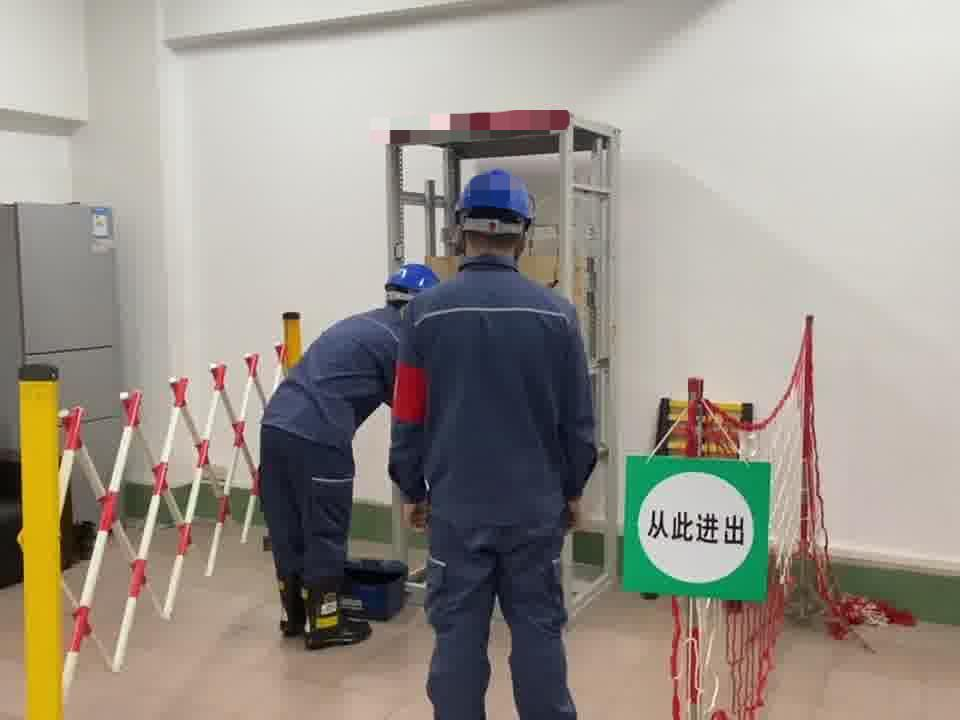halt: (453, 169, 540, 266), (388, 264, 441, 306)
